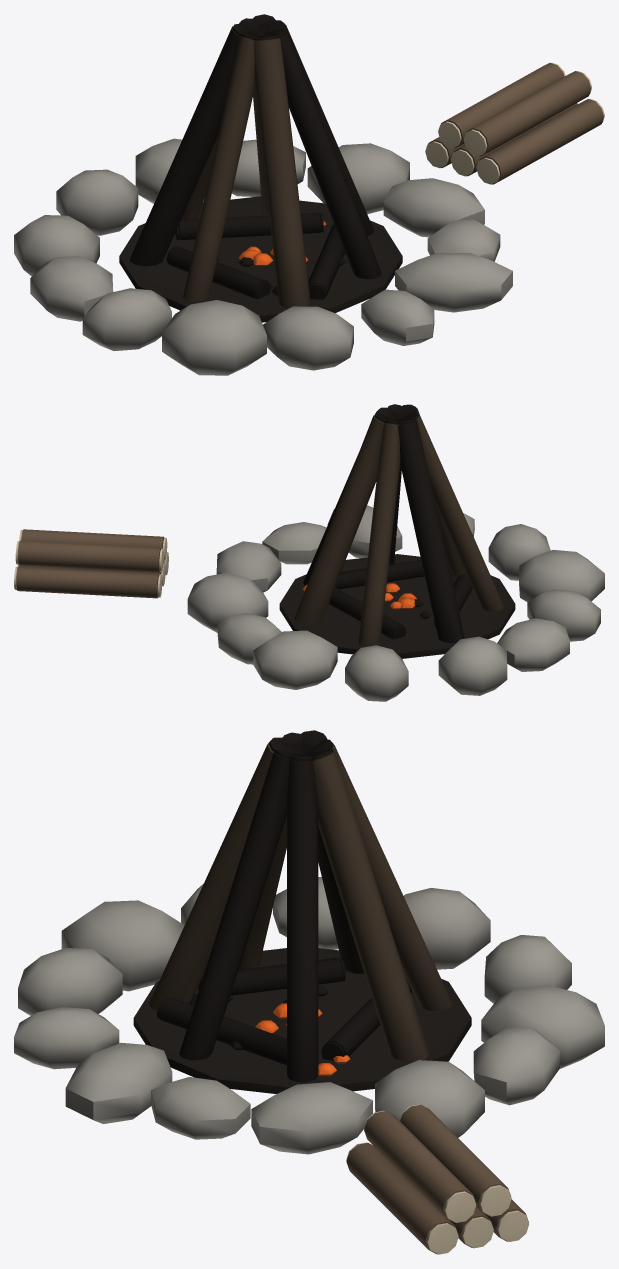
Rendered from bonfire.glb.
The picture shows the model from 3 angles, top to bottom: view 1: azimuth 30°, elevation 25°; view 2: azimuth 150°, elevation 25°; view 3: azimuth 270°, elevation 25°; orthographic projection. The views are drawn at different scales.
Parts seen in each view (by area): view 1: bonfire; view 2: bonfire; view 3: bonfire.
Part boxes in pixels (x1,y1,x2,y2): bonfire: (14, 14, 604, 375); bonfire: (14, 404, 604, 701); bonfire: (14, 730, 604, 1254).
Bounding box in the file's own units: 3.71 × 1.51 × 2.62.
